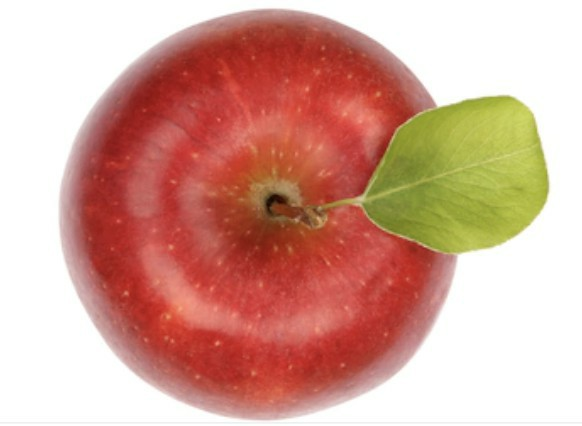fresh_apple: (59, 9, 466, 416)
